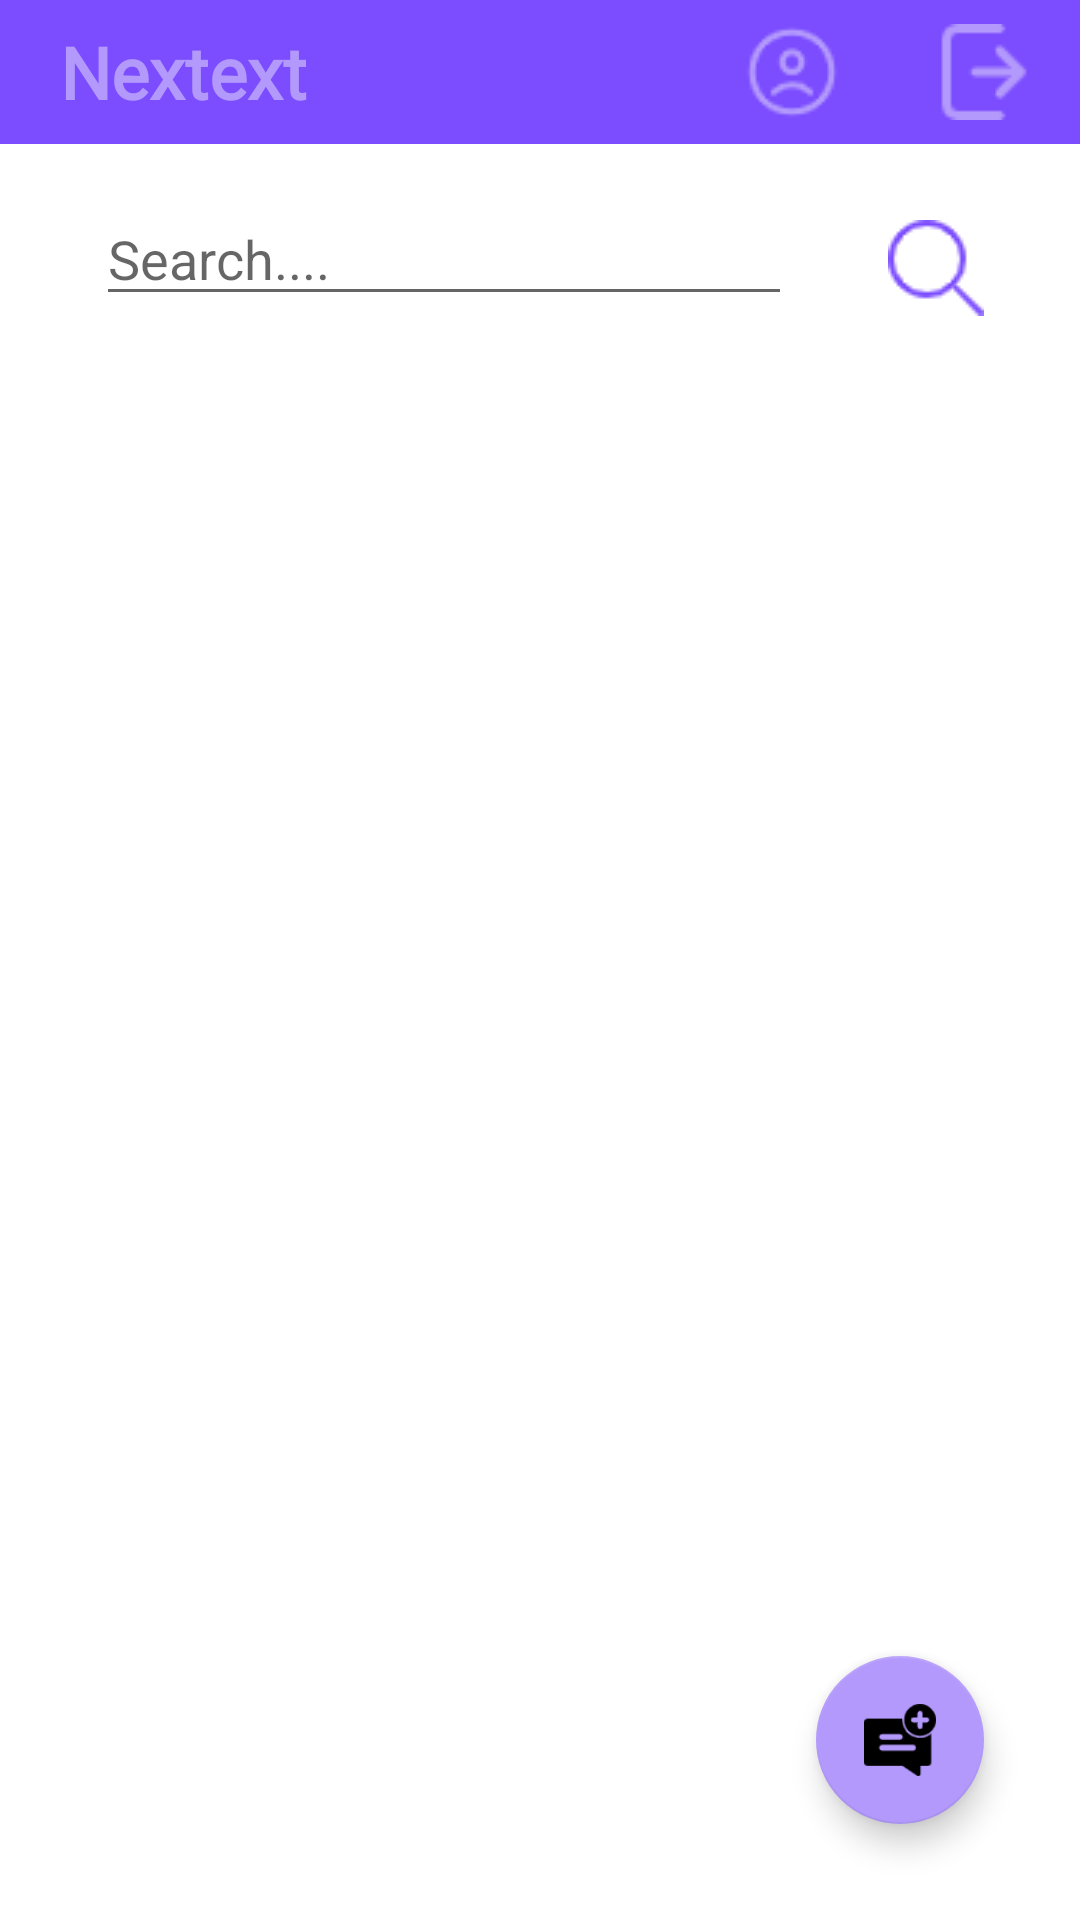

Point at icon controls on the screen. Image size 1080×1920, points as (x=x, y=y).
chatbubble: (x=900, y=1740)
user: (x=792, y=72)
